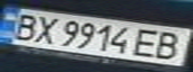1: (93, 21, 115, 53)
4: (109, 24, 136, 55)
9: (54, 17, 81, 48), (75, 20, 96, 52)
B: (148, 29, 190, 61), (3, 11, 45, 42)
E: (130, 26, 169, 59)
X: (27, 14, 63, 45)
